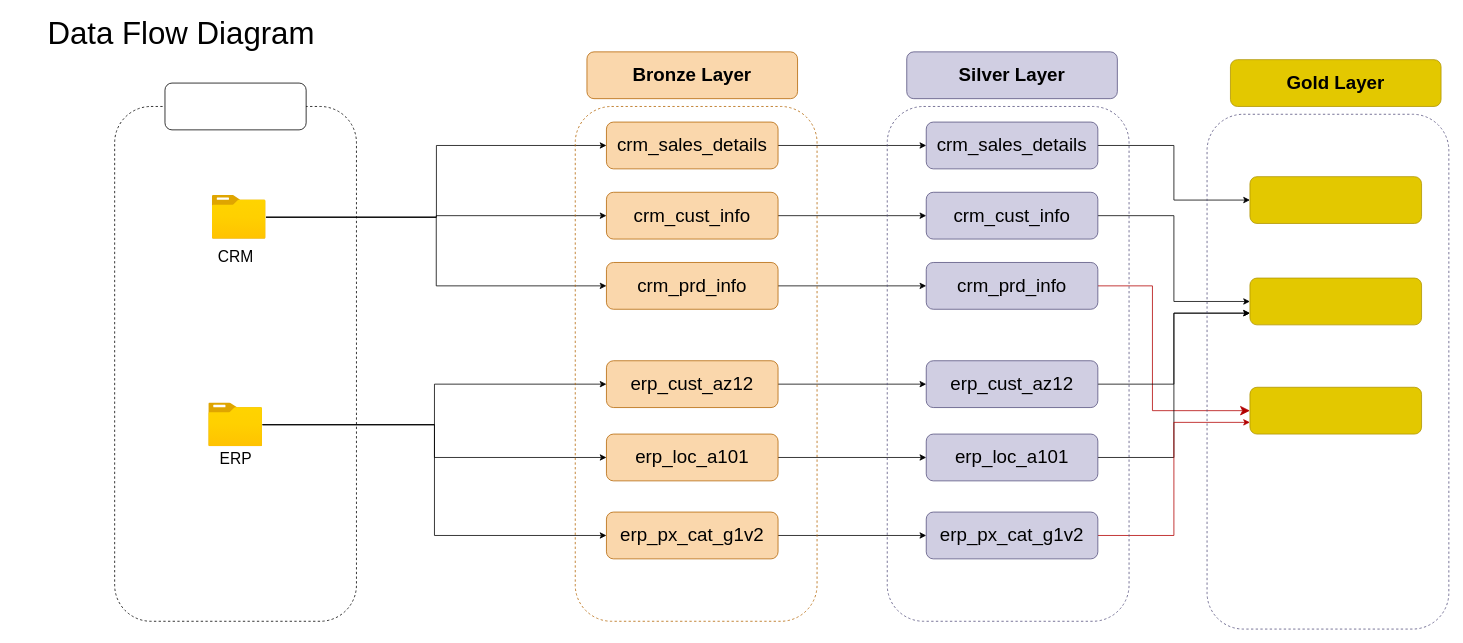
Some shapes in this 1463 by 643 pixel diagram are drawn without their labels. Each missing label, with the box of its shape:
dim_customer: (1249, 277, 1422, 325)
dim_product: (1249, 386, 1422, 434)
fact_sales: (1249, 176, 1422, 223)
Soures: (164, 82, 306, 130)
